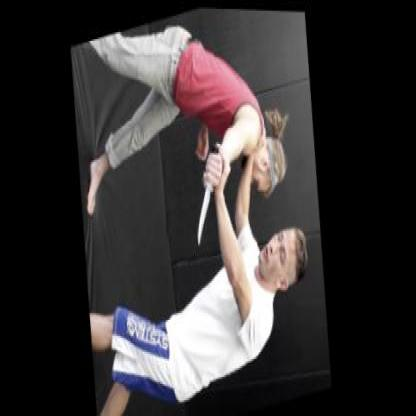knife: (184, 134, 233, 250)
